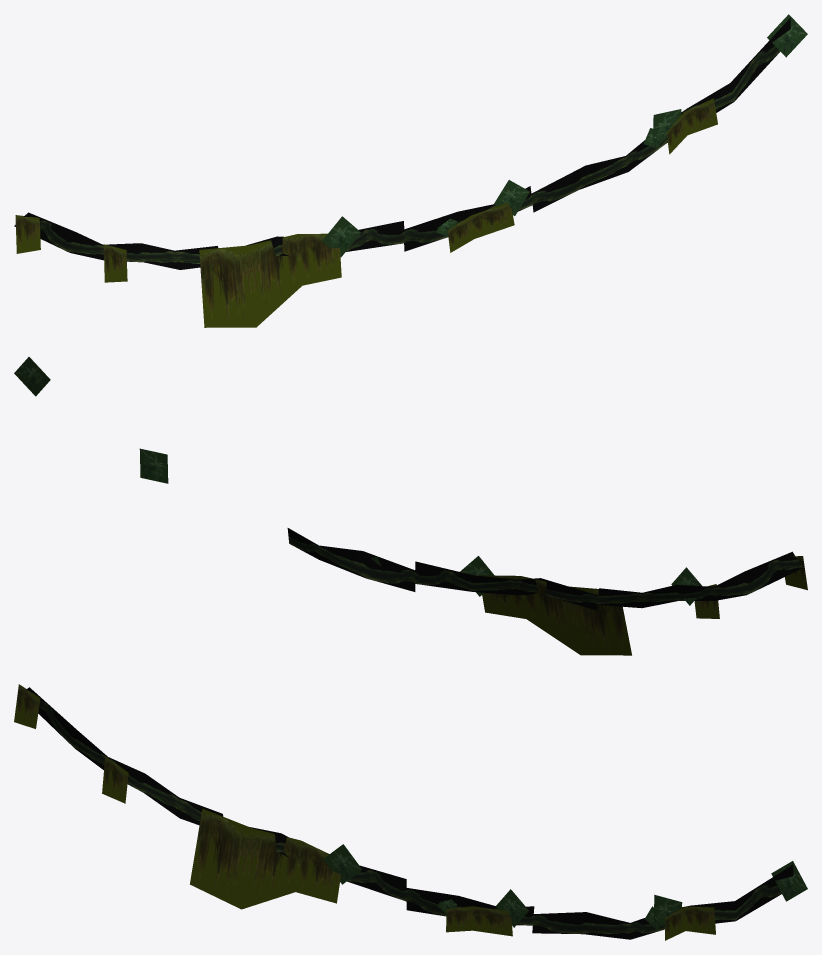
The model's file is jungle_vine_b_300.fbx.
3 views of the same model, one above another, from view 1: azimuth 30°, elevation 25°; view 2: azimuth 150°, elevation 25°; view 3: azimuth 330°, elevation 25° (orthographic).
Parts seen in each view (by area): view 1: vine9, vine4, vine5, boss1, vine2, vine, boss, vine8, vine3, pPlane17, pPlane18, pPlane11; view 2: vine9, vine5, vine, vine2, pPlane14, pPlane18; view 3: vine9, vine4, vine5, boss1, vine2, vine, boss, vine3, vine8, pPlane17, pPlane18, pPlane11 (+1 smaller).
Part boxes in pixels (box(x1,y1,x2,y2)): vine9: box(199, 233, 341, 327); vine4: box(531, 18, 790, 212); vine5: box(14, 212, 218, 269); boss1: box(447, 203, 514, 252); vine2: box(404, 186, 532, 251); vine: box(246, 221, 404, 256); boss: box(666, 98, 717, 154); vine8: box(15, 215, 40, 253); vine3: box(103, 244, 127, 282); pPlane17: box(322, 216, 361, 257); pPlane18: box(767, 14, 807, 57); pPlane11: box(494, 180, 529, 215); vine9: box(479, 575, 631, 655); vine5: box(598, 551, 802, 608); vine: box(415, 561, 598, 610); vine2: box(287, 528, 415, 591); pPlane14: box(139, 448, 168, 483); pPlane18: box(14, 357, 50, 396); vine9: box(190, 808, 340, 909); vine4: box(532, 865, 793, 939); vine5: box(26, 687, 223, 825); boss1: box(446, 906, 512, 936); vine2: box(406, 888, 534, 925); vine: box(250, 827, 406, 901); boss: box(665, 906, 715, 940); vine3: box(102, 756, 128, 803); vine8: box(14, 684, 40, 728); pPlane17: box(323, 844, 362, 884); pPlane18: box(771, 861, 807, 901); pPlane11: box(496, 889, 528, 927).
Bounding box in the file's own units: 30973 × 6494 × 679.
1 material, 1 textured.
